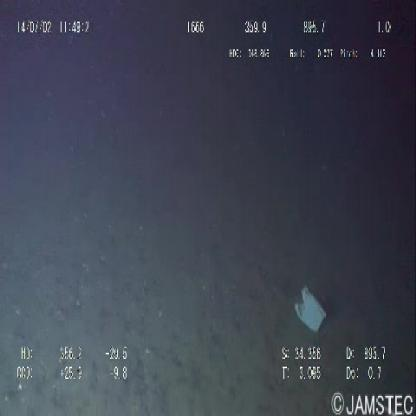Rác: (288, 276, 328, 337)
